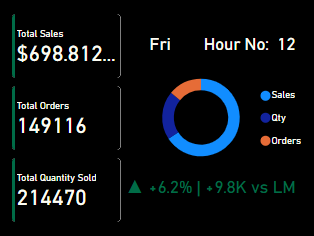

The dashboard page shown, as its layout file describes it:
{"tool":"powerbi","page":{"name":" Tool Tip - Day & Hour Chart","canvas":[320,240],"ordinal":2},"visuals":[{"type":"cardVisual","fields":{"Data":["Transaction.Total Sales","Transaction.Total Orders","Transaction.Total Quantity Sold"]},"box":[0,0,141.2,240],"z":0},{"type":"donutChart","fields":{"Y":["Transaction.Total Sales","Transaction.Total Quantity Sold","Transaction.Total Orders"]},"box":[141,66,179,107],"z":1000},{"type":"card","fields":{"Values":["Transaction.TT For Hour"]},"box":[187,32,133,25],"z":2000},{"type":"card","fields":{"Values":["Transaction.MoM Growth & Diff Sales"]},"box":[109,173,211,33],"z":3000},{"type":"card","fields":{"Values":["Min(Date Table.Day Name)"]},"box":[141,32,46,25],"z":3001}]}

Visuals, with their boxes in screenshot pixels (x1, y1, x2, y2), scaled from the page's 320x240 canvas onto the 314x236 screenshot:
cardVisual - Transaction.Total Sales x Transaction.Total Orders: {"left": 0, "top": 0, "right": 139, "bottom": 235}
donutChart - Transaction.Total Sales x Transaction.Total Quantity Sold: {"left": 138, "top": 65, "right": 313, "bottom": 170}
card - Transaction.TT For Hour: {"left": 183, "top": 31, "right": 313, "bottom": 56}
card - Transaction.MoM Growth & Diff Sales: {"left": 107, "top": 170, "right": 313, "bottom": 203}
card - Min(Date Table.Day Name): {"left": 138, "top": 31, "right": 183, "bottom": 56}
